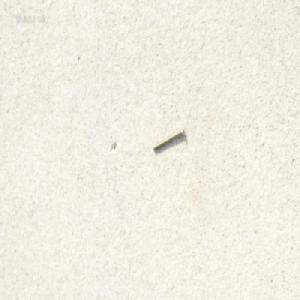Bolt: (152, 125, 184, 151)
